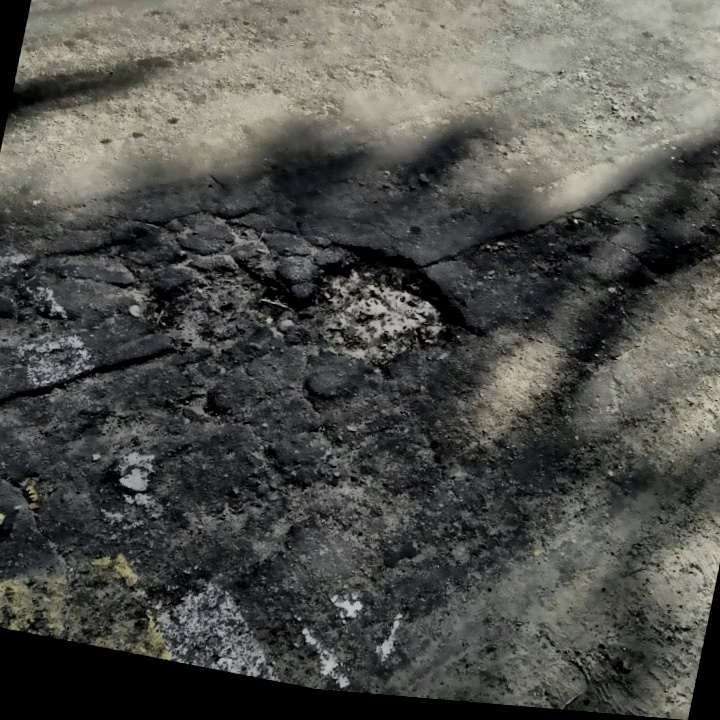pothole: (289, 228, 494, 386), (137, 246, 302, 363)
